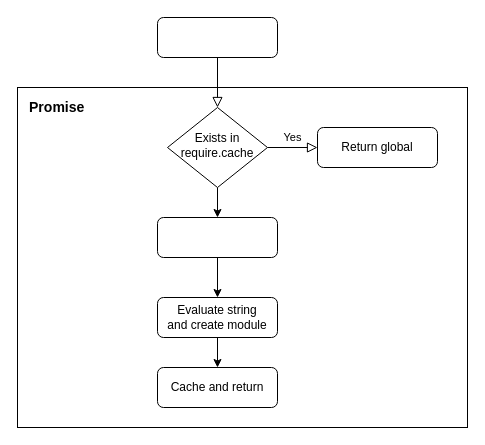
The diagram is 485 pixels wide and 445 high, and some of its shapes have lost their labels. Here are the shapes that lost their labels. From the top down, the centre of each, then its label:
At (217,37): "module `import()`".
At (217,237): "fs.readFile".
